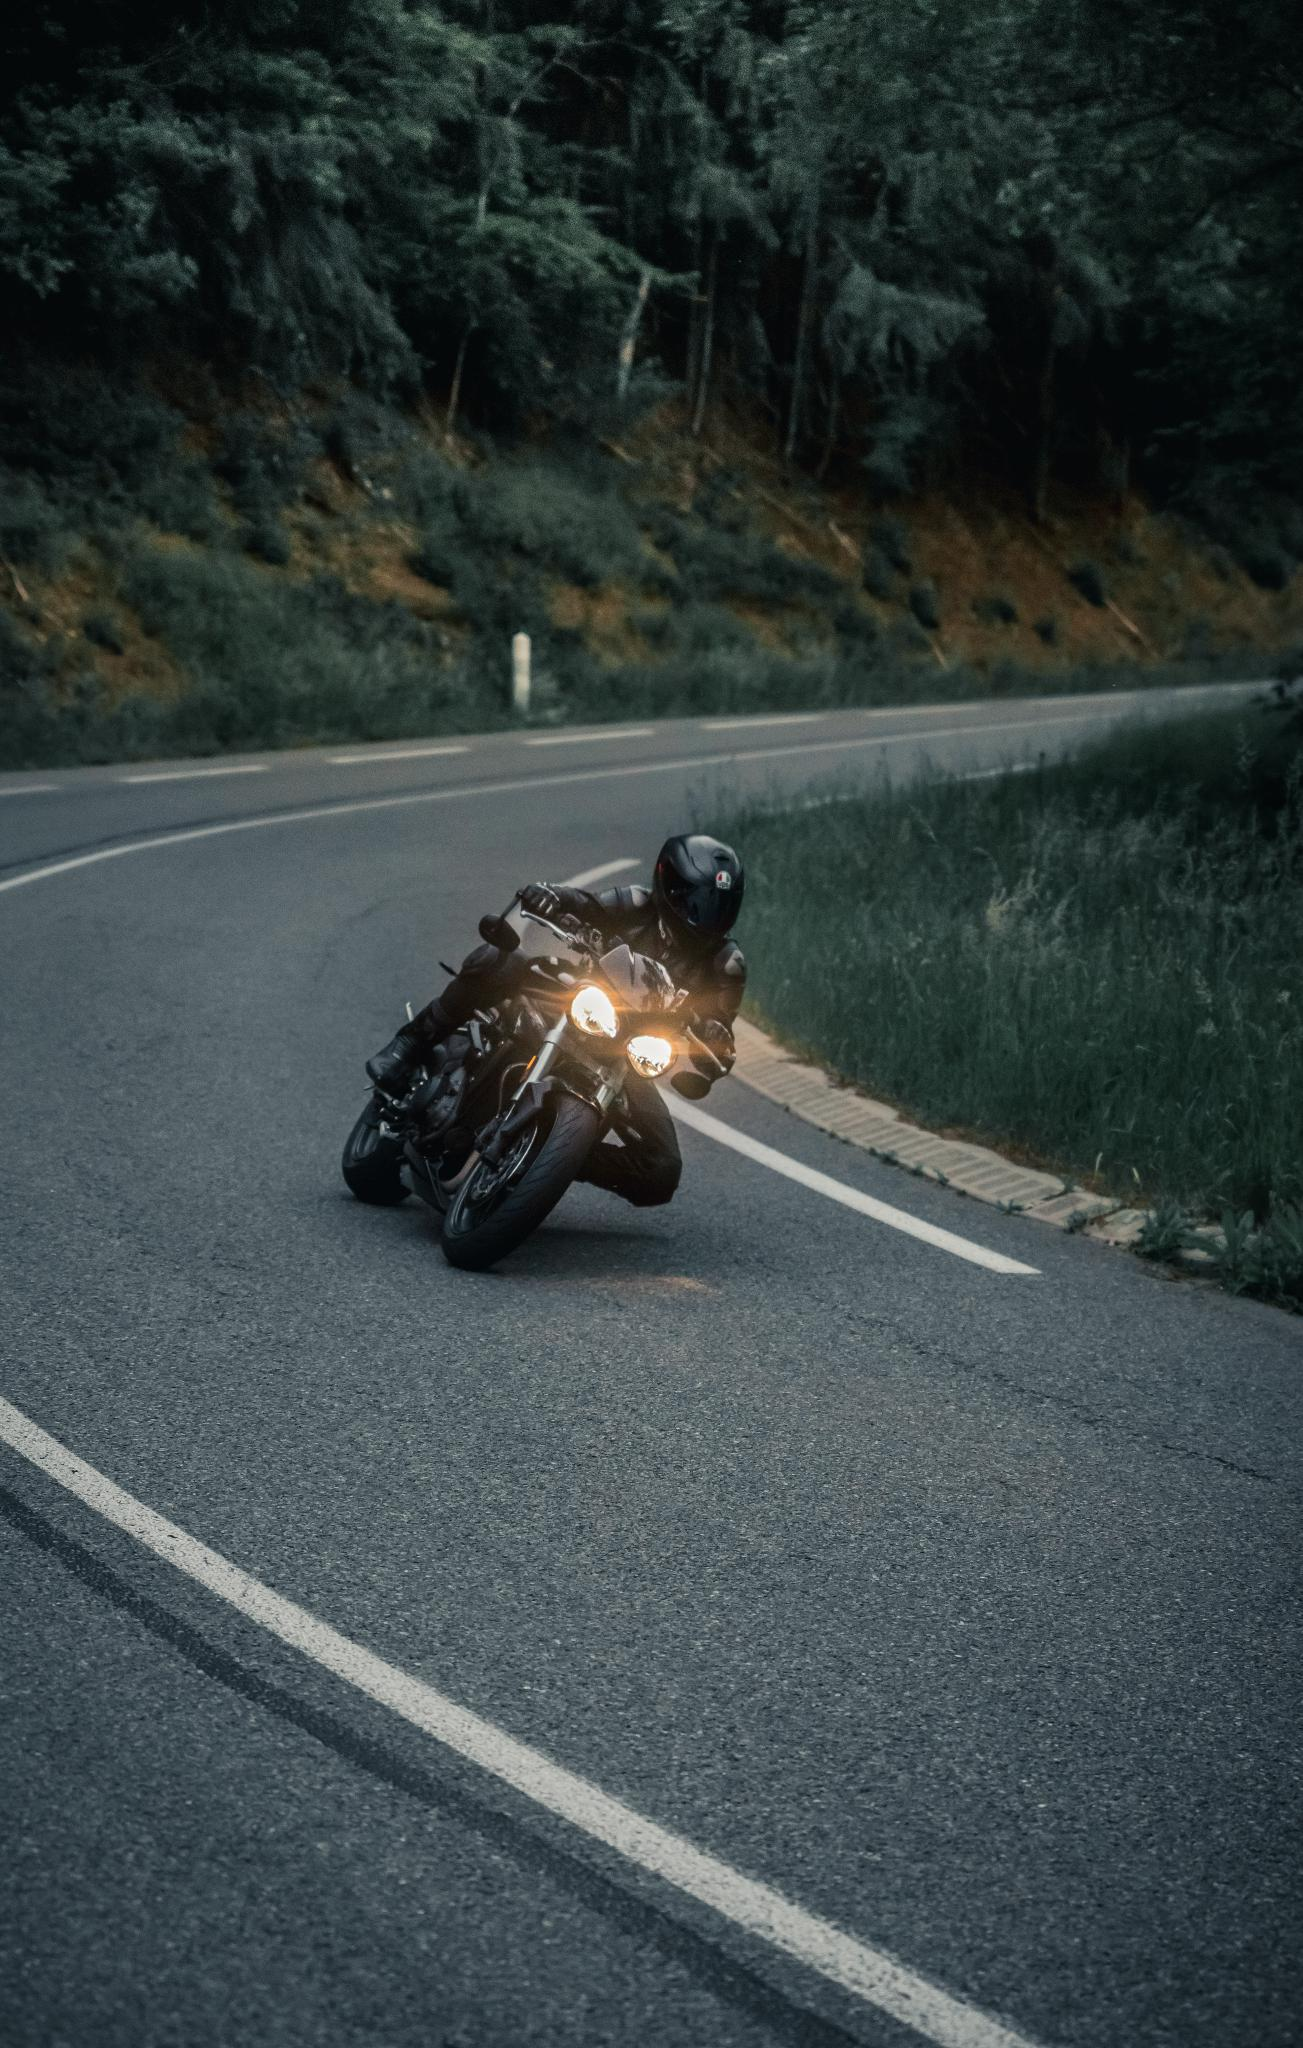motorcycle: (322, 917, 734, 1276)
